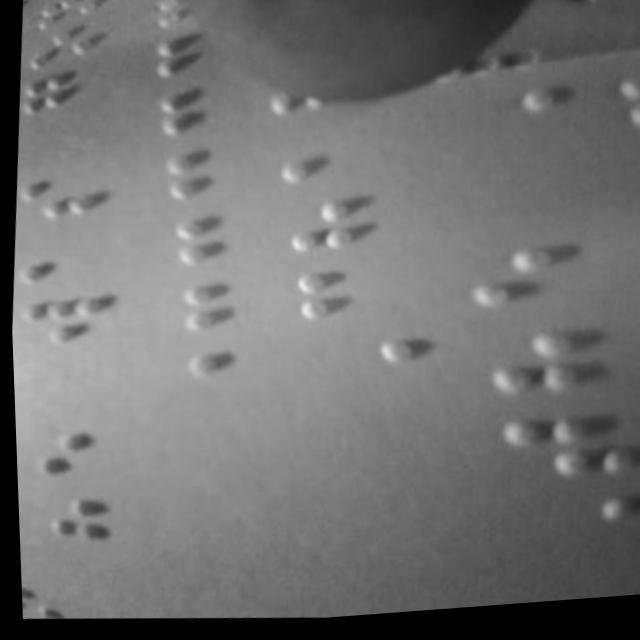braiile: (464, 302, 629, 403), (471, 395, 640, 493), (447, 226, 611, 322), (257, 119, 396, 200), (277, 252, 408, 336), (266, 185, 399, 262), (28, 473, 153, 551), (8, 280, 126, 358), (15, 414, 139, 485), (10, 163, 118, 234), (8, 229, 121, 293), (16, 65, 108, 123)
